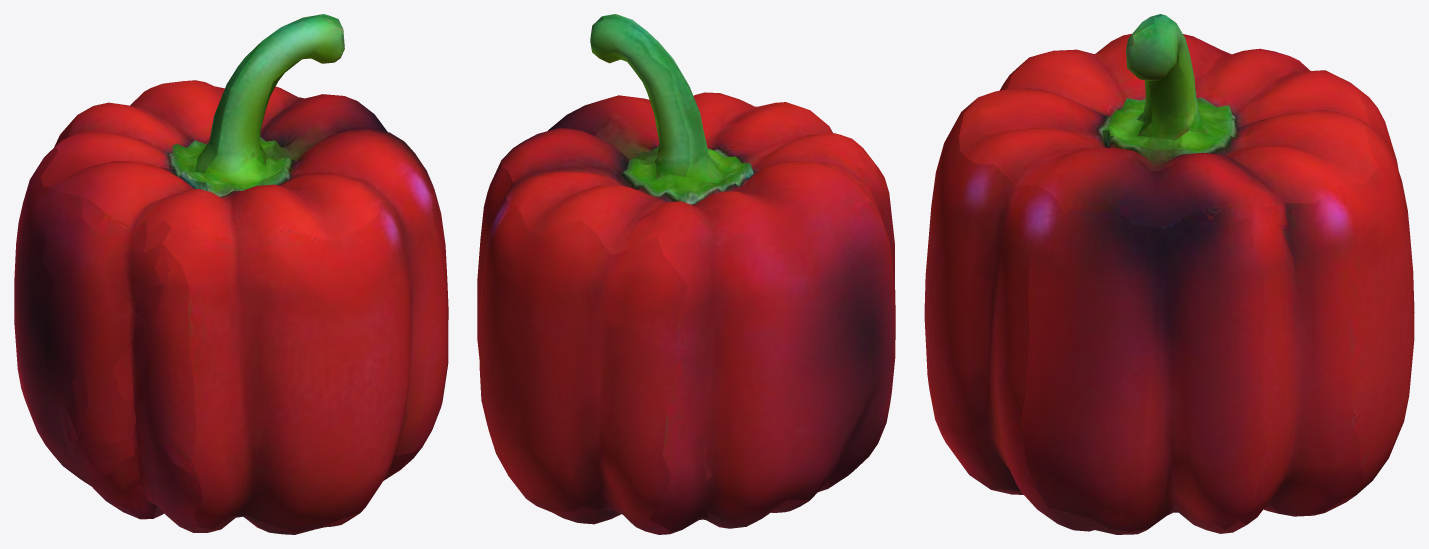
File: bell_pepper.glb
3 views of the same model, side by side, from view 1: azimuth 30°, elevation 25°; view 2: azimuth 150°, elevation 25°; view 3: azimuth 270°, elevation 25° (orthographic). The views are drawn at different scales.
Visible parts, largest first — view 1: bell_pepper; view 2: bell_pepper; view 3: bell_pepper.
Boxes of the visible parts, box(x1,y1,x2,y2) form: bell_pepper: box(14, 14, 448, 534); bell_pepper: box(477, 14, 895, 534); bell_pepper: box(924, 14, 1414, 534).
Bounding box in the file's own units: 0.8646 × 1 × 0.8892.
Materials: 1 (1 with a texture image).
